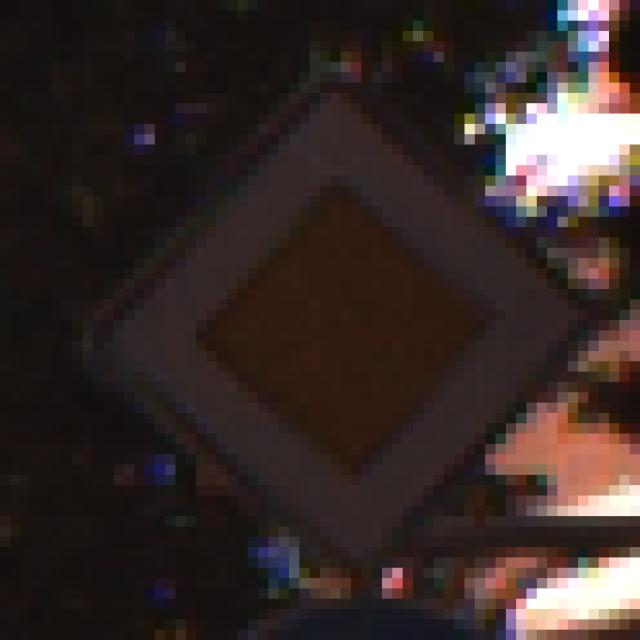Main Road: (63, 63, 579, 589)
